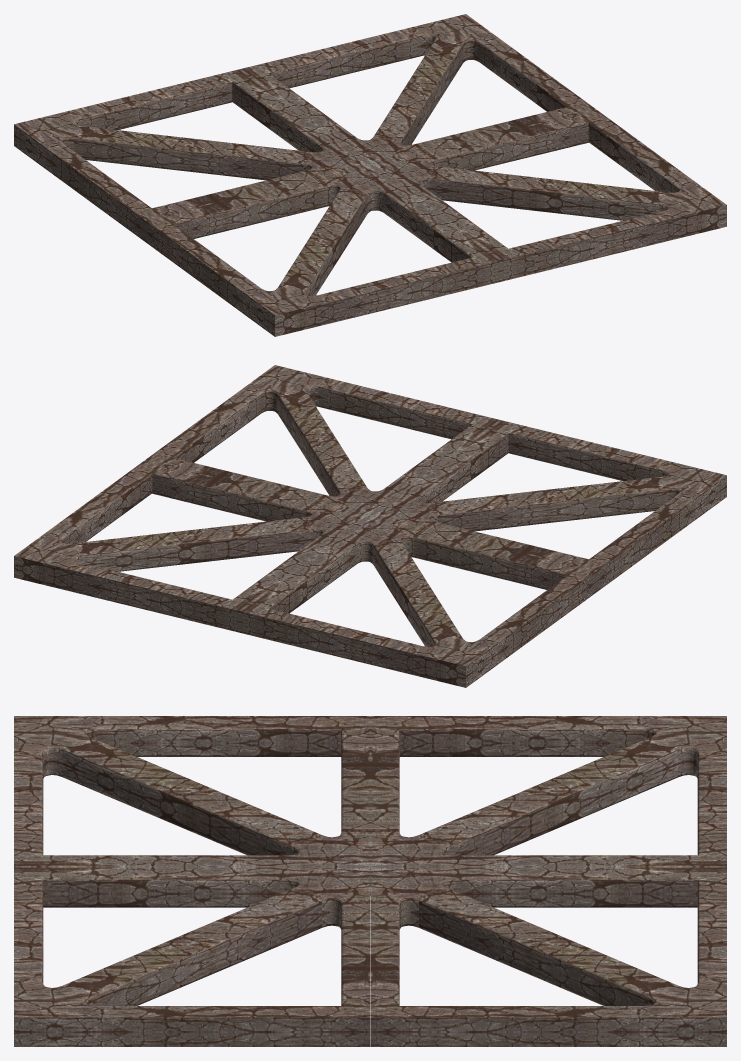
The model's file is wall_pyl_RLX.FBX.
3 views of the same model, one above another, from view 1: azimuth 30°, elevation 25°; view 2: azimuth 150°, elevation 25°; view 3: azimuth 270°, elevation 25° (orthographic). The views are drawn at different scales.
Parts seen in each view (by area): view 1: wall_pyl_RLX; view 2: wall_pyl_RLX; view 3: wall_pyl_RLX.
Boxes of the visible parts, x1,y1,x2,y2 form: wall_pyl_RLX: (14,14,726,336); wall_pyl_RLX: (14,365,726,687); wall_pyl_RLX: (14,716,726,1046).
Bounding box in the file's own units: 8 × 8 × 0.3662.
